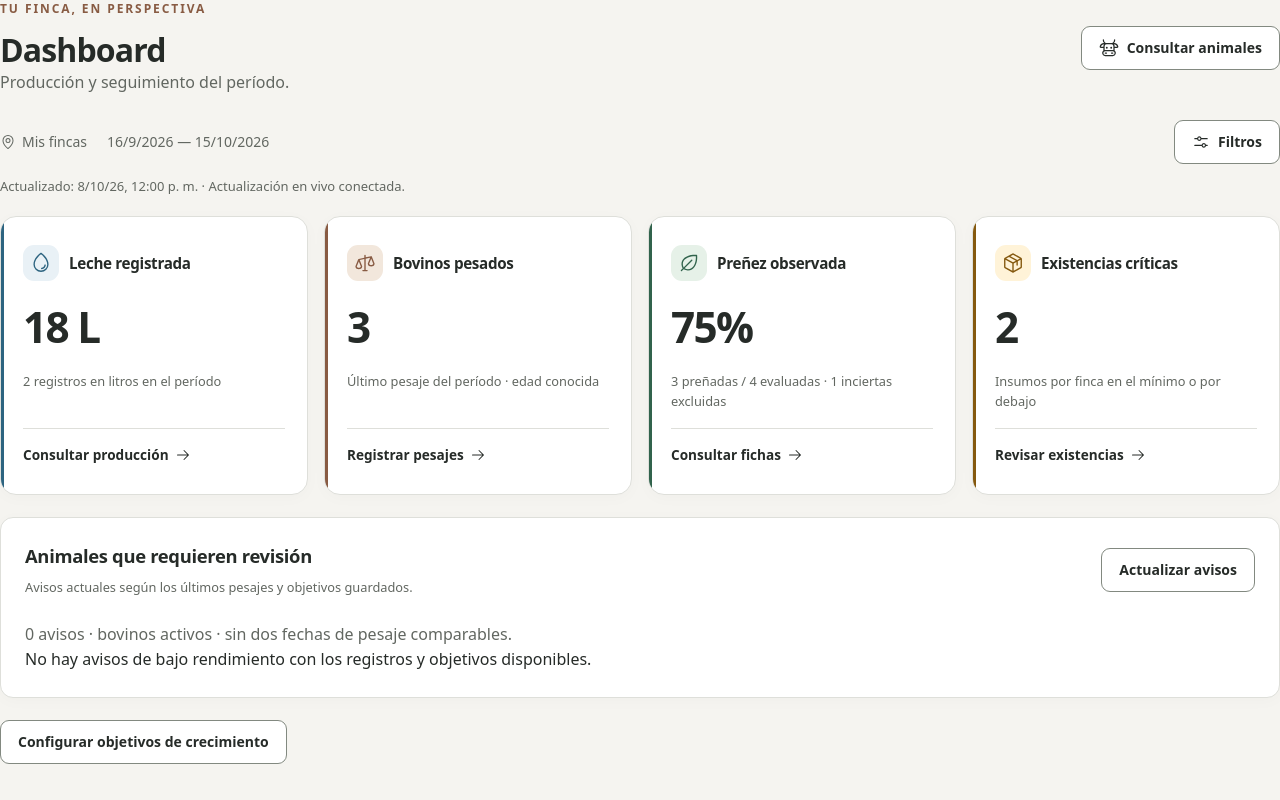
Test: queries the applied farm and period, without sending each local edit
The image size is (1280, 800).
Check: the element "Leche registrada" is shown, box [0,216,308,495]
Check: the field labelled "Desde" is not shown
Click the button "Filtros": click(1227, 142) [1174,120,1279,164]
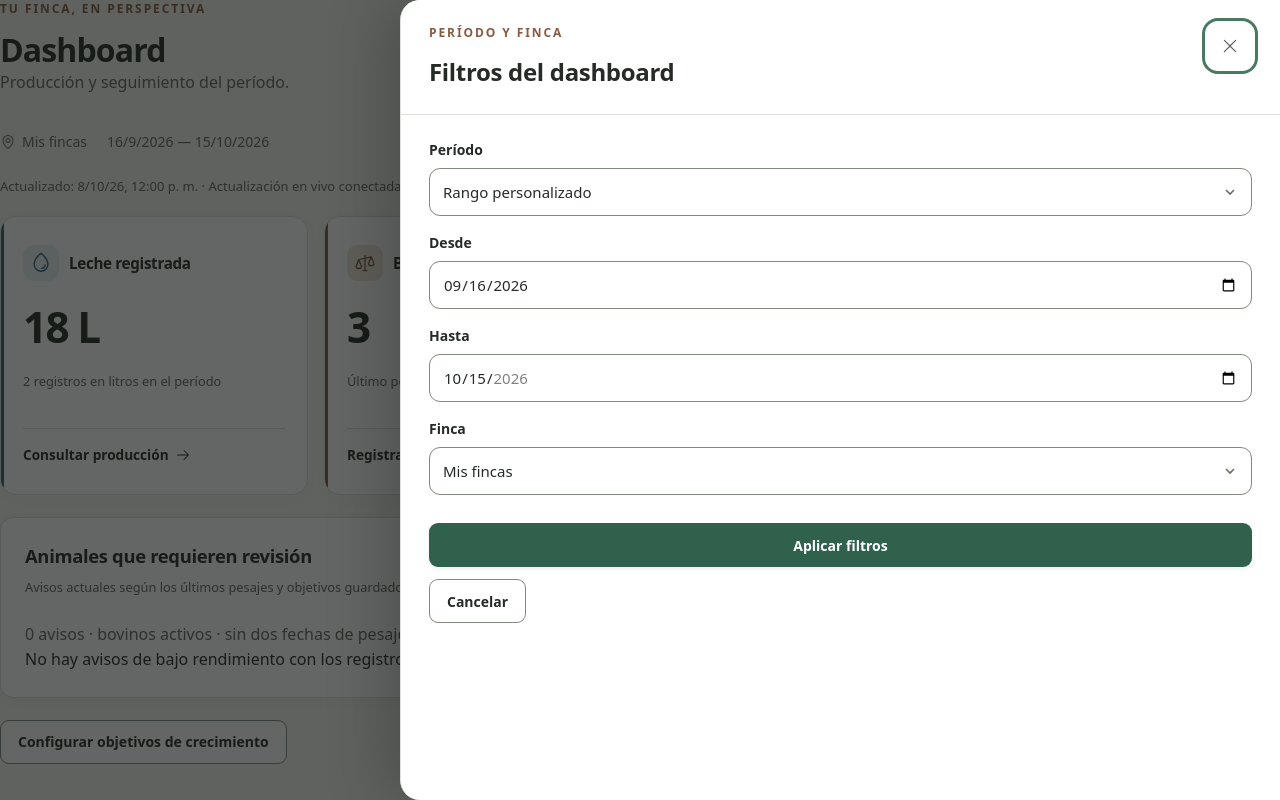
In the date field labelled "Desde": (840, 285) [429,261,1252,309], type "2026-10-01"
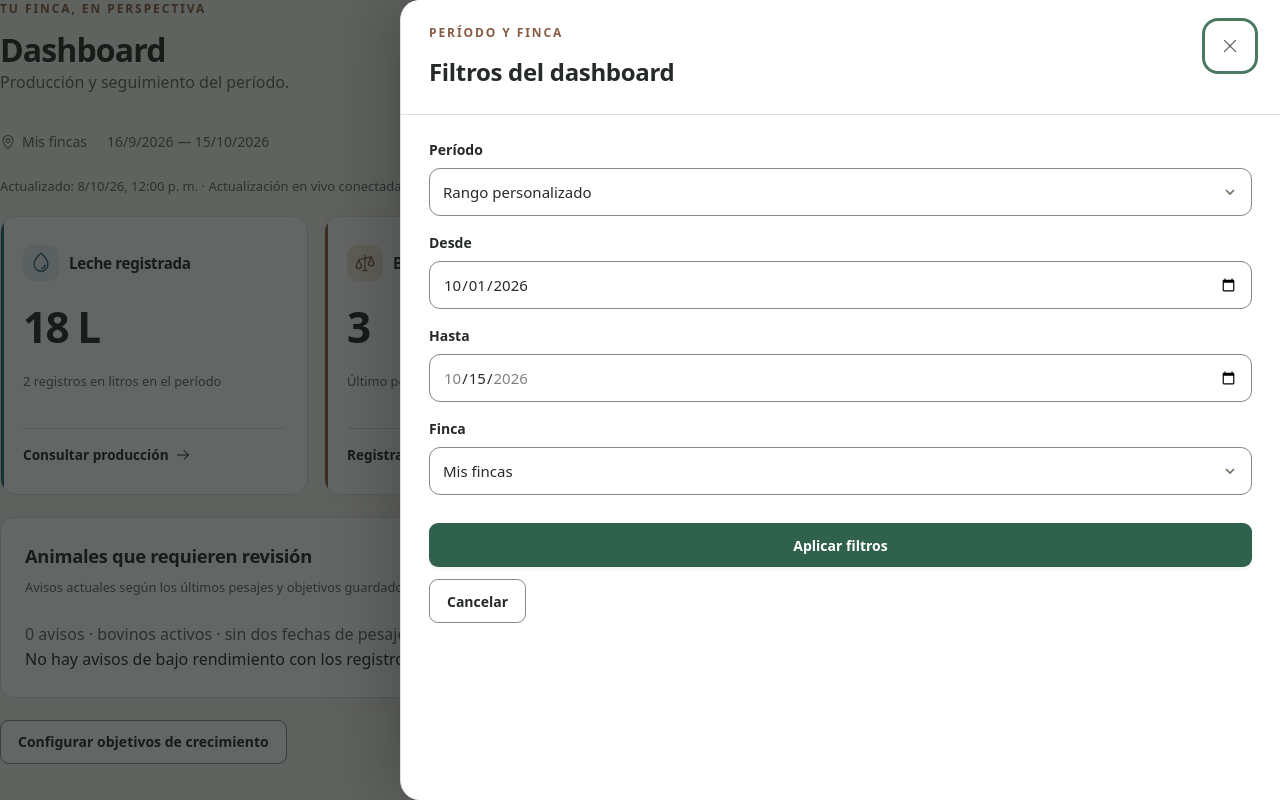
Select "Farm A" in the dropdown labelled "Finca": (840, 471) [429,447,1252,495]
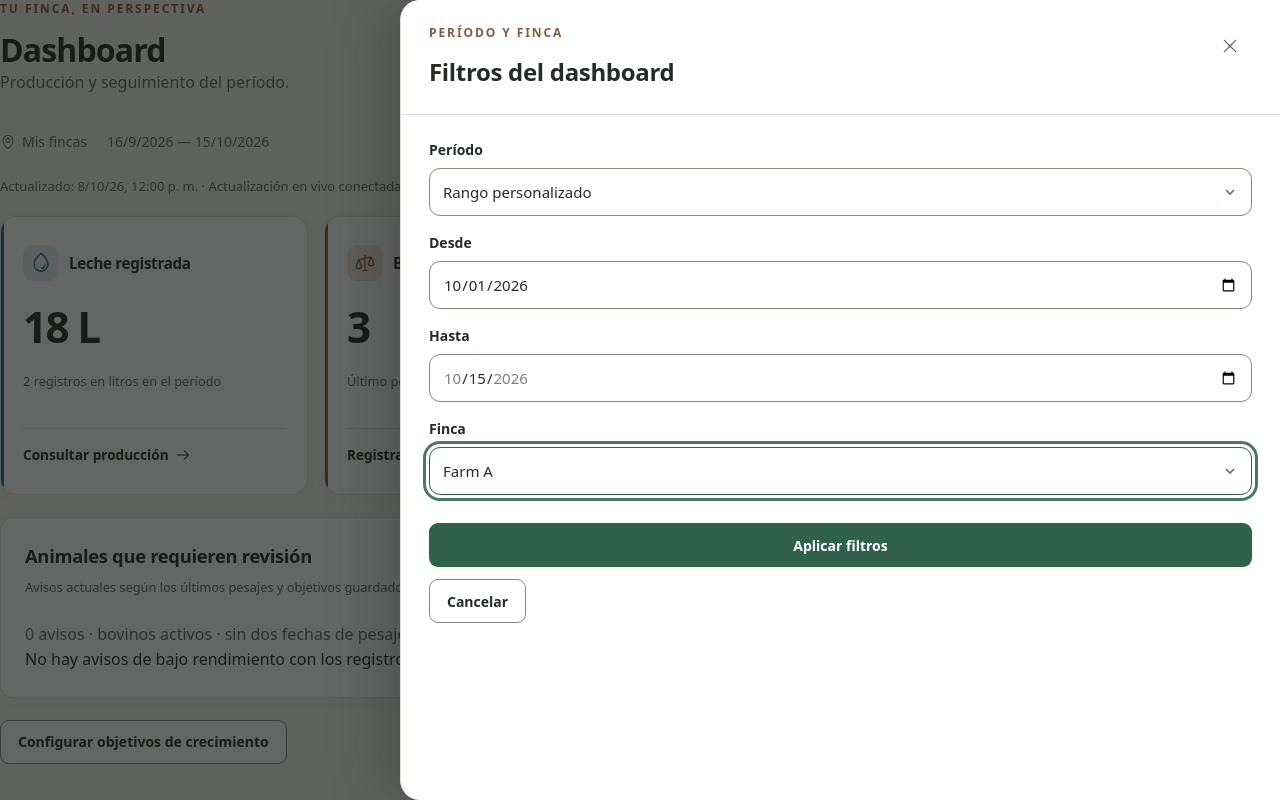
Click the button "Aplicar filtros": click(840, 545) [429,523,1252,567]
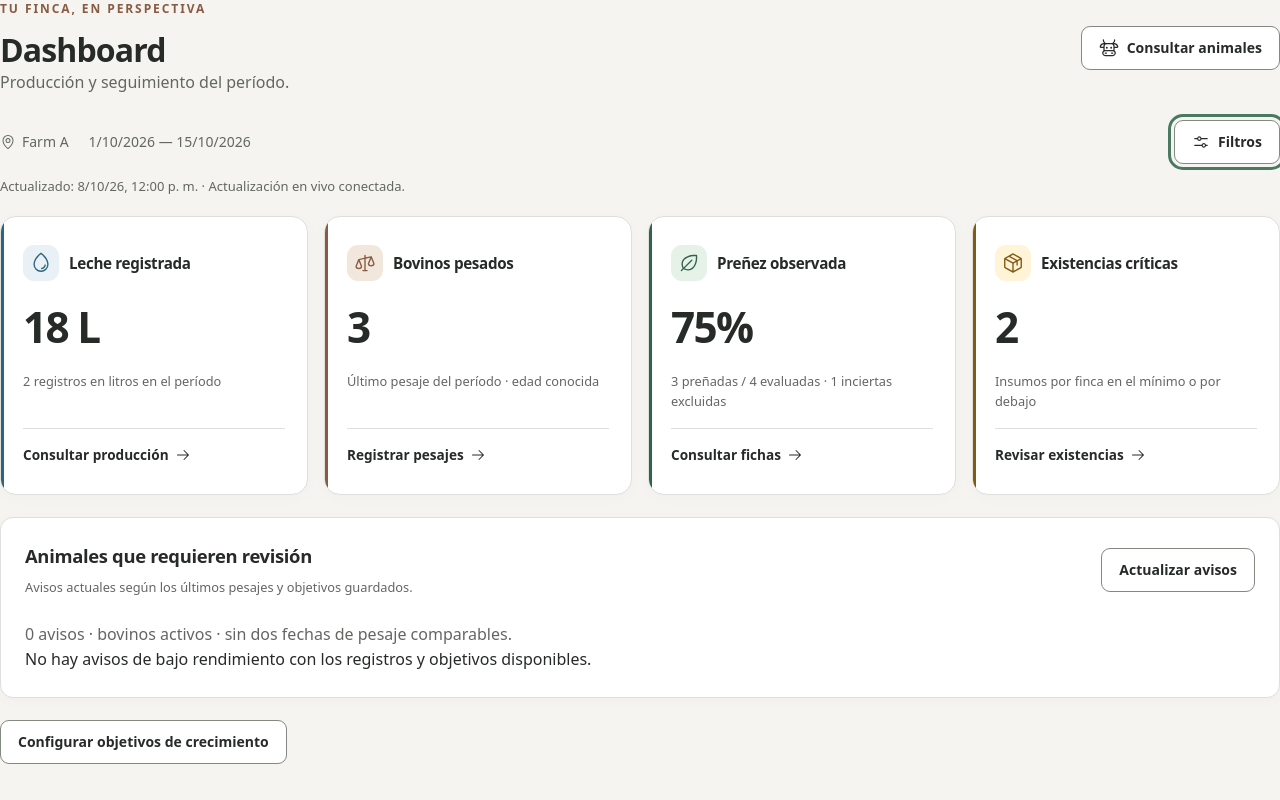
Check: the heading "Filtros del dashboard" is gone
